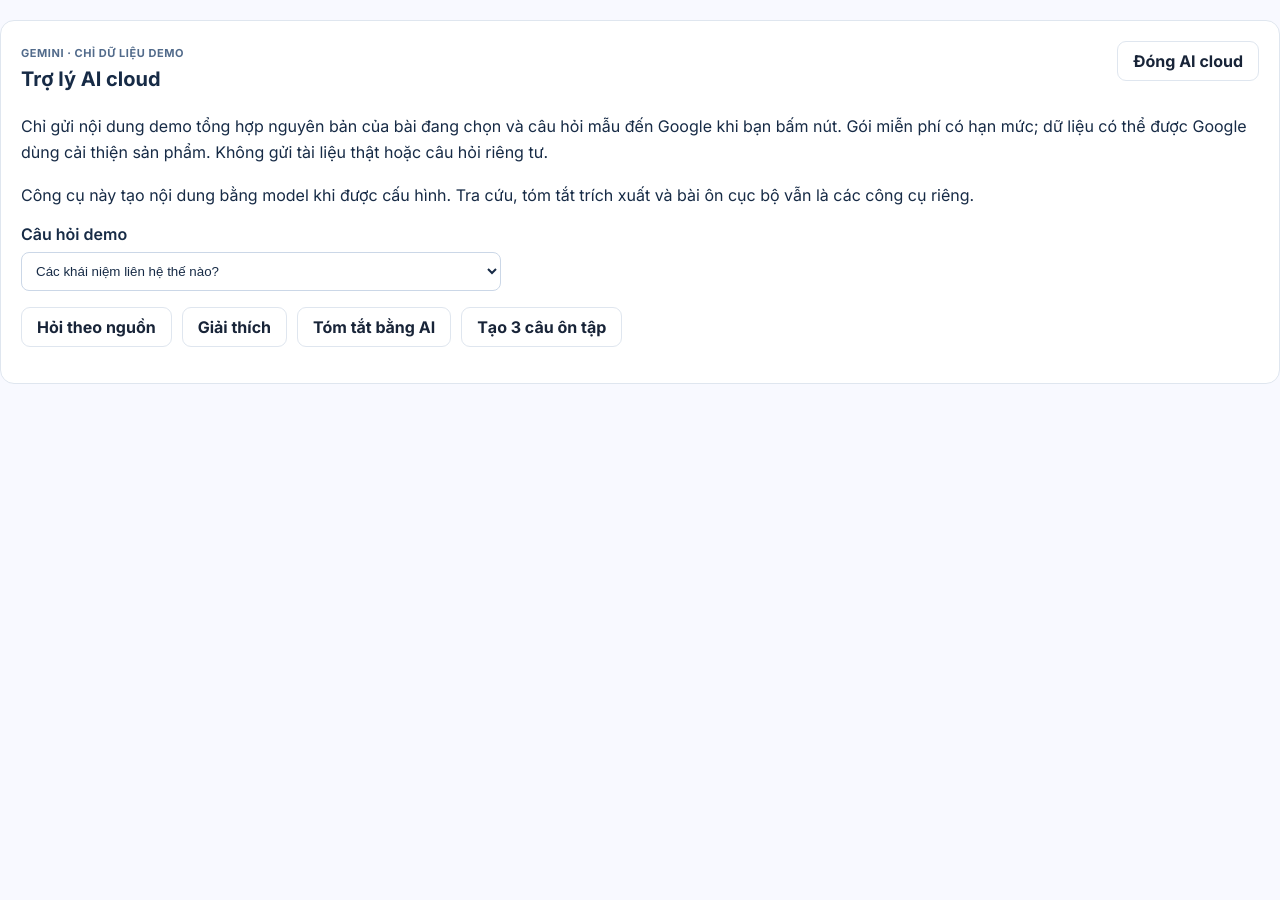
demo cloud explicit scoped interaction › does not replay failed generation and permits a deliberate new request
Click the button "Tóm tắt bằng AI": (374, 327) [297,307,451,347]
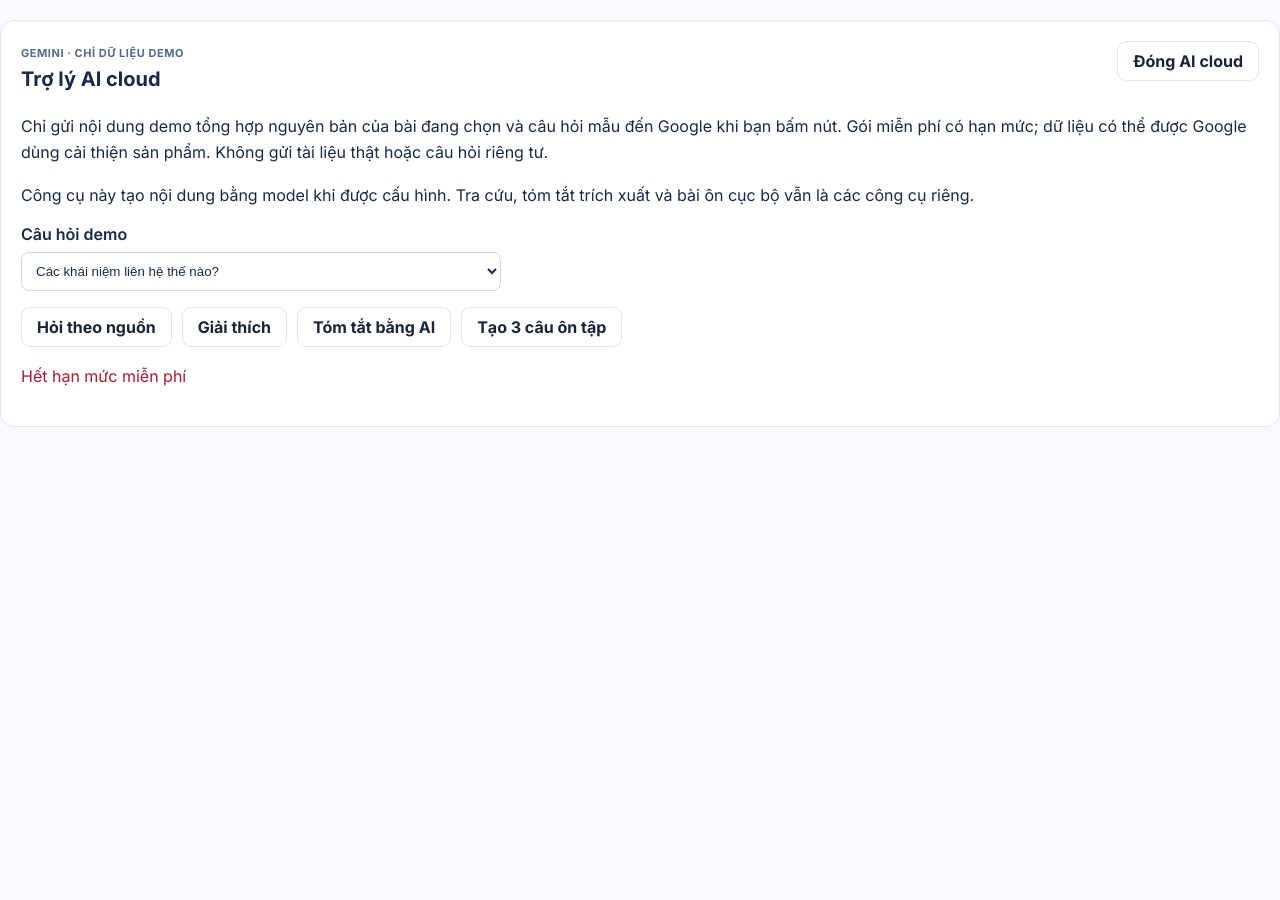
Check: the message shows "Hết hạn mức", box [21,366,186,386]
Click the button "Tóm tắt bằng AI": (374, 327) [297,307,451,347]
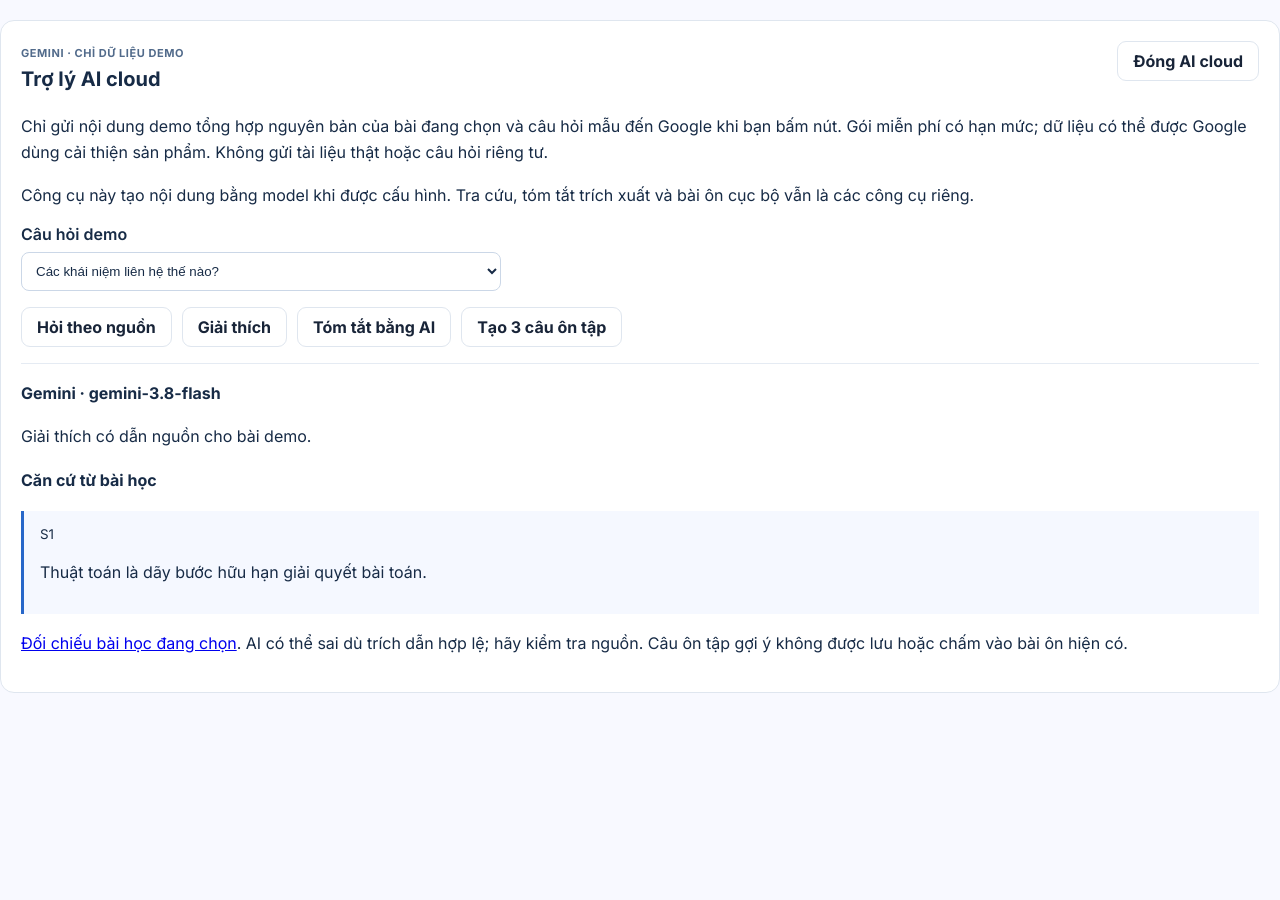
Check: the text "Giải thích có dẫn nguồn cho bài demo." is shown, box [21,426,311,446]
